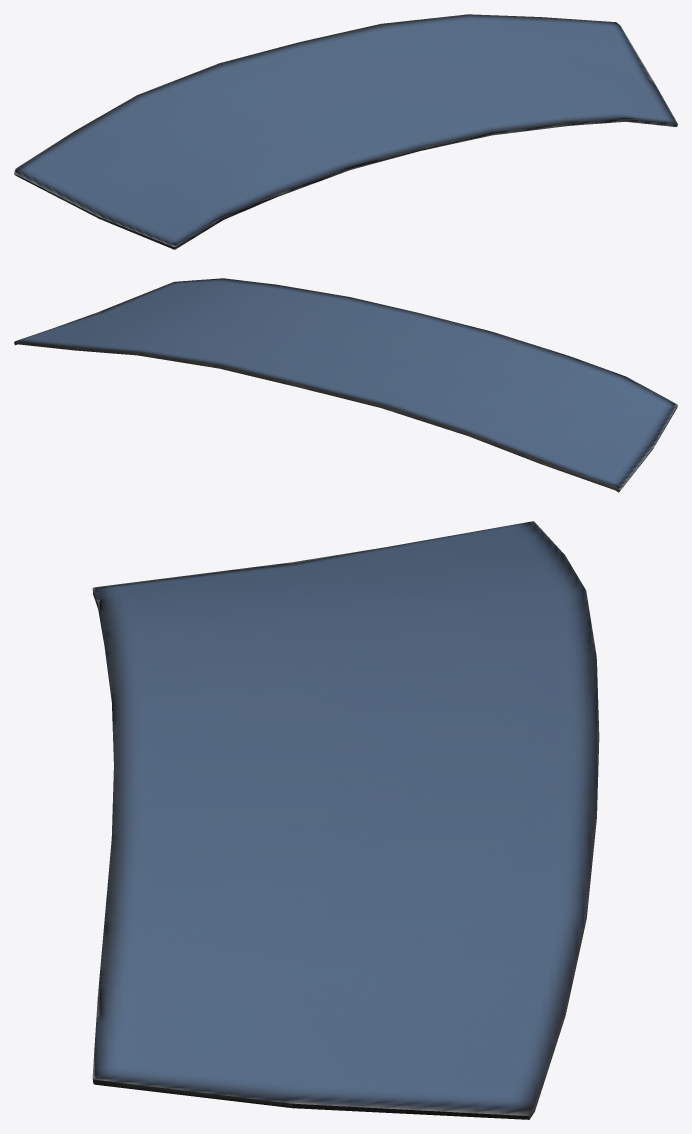
Rendered from FordF700BoxWindshield_WorldItem.fbx.
3 views of the same model, one above another, from view 1: azimuth 30°, elevation 25°; view 2: azimuth 150°, elevation 25°; view 3: azimuth 270°, elevation 25° (orthographic). The views are drawn at different scales.
Visible parts, largest first — view 1: Windshield_obj; view 2: Windshield_obj; view 3: Windshield_obj.
Part boxes in pixels (x1,y1,x2,y2): Windshield_obj: [14, 14, 677, 249]; Windshield_obj: [14, 278, 677, 492]; Windshield_obj: [92, 521, 599, 1119].
Size of the model in its own units: 2.48 by 0.2111 by 0.899.
